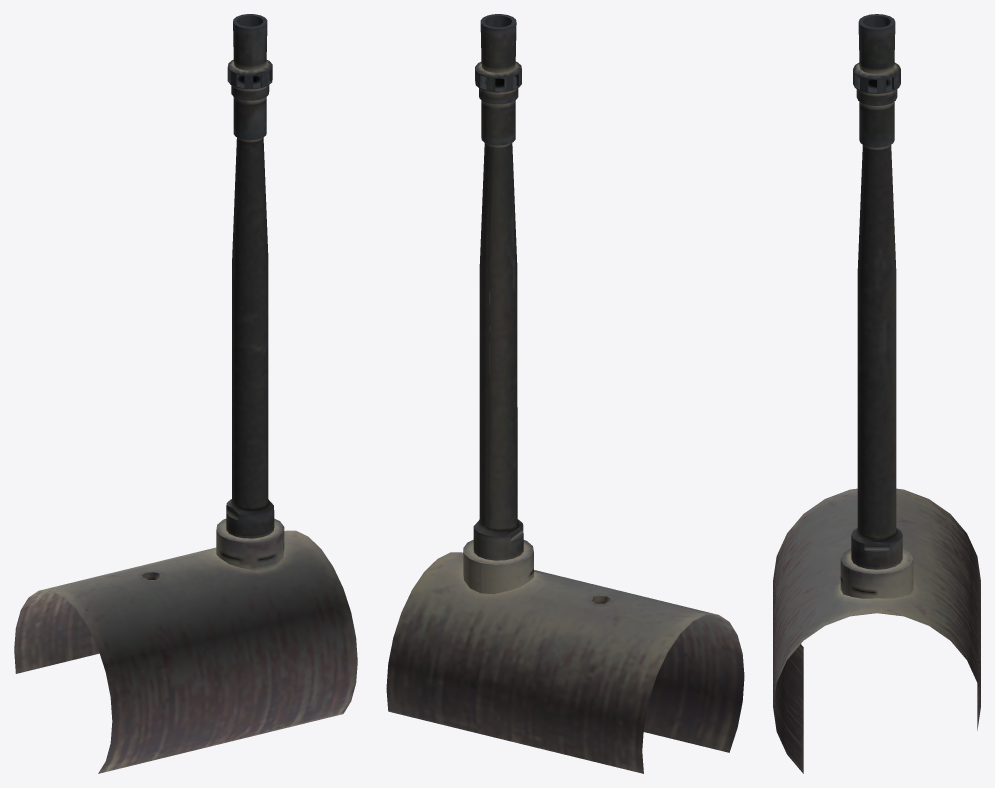
Rendered from Gun_05.glb.
3 views of the same model, side by side, from view 1: azimuth 30°, elevation 25°; view 2: azimuth 150°, elevation 25°; view 3: azimuth 270°, elevation 25° (orthographic). The views are drawn at different scales.
Visible parts, largest first — view 1: set_0_group_0; view 2: set_0_group_0; view 3: set_0_group_0.
Boxes of the visible parts, x1,y1,x2,y2 form: set_0_group_0: [14, 14, 357, 773]; set_0_group_0: [386, 14, 744, 773]; set_0_group_0: [773, 14, 980, 773].
Size of the model in its own units: 0.4218 by 1.12 by 0.292.
Materials: 1 (1 with a texture image).
